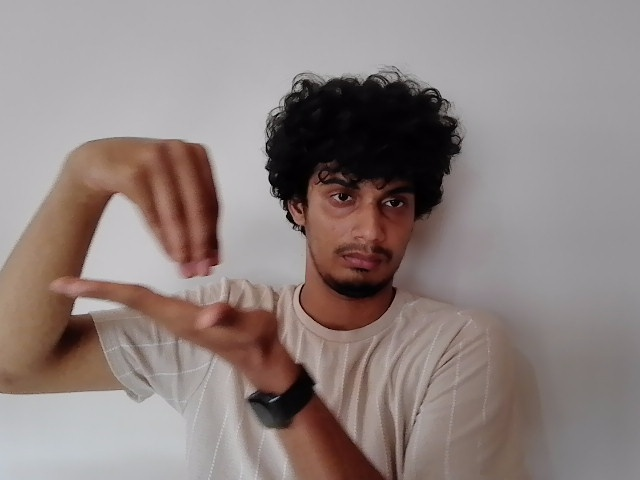learn: (48, 126, 266, 335)
